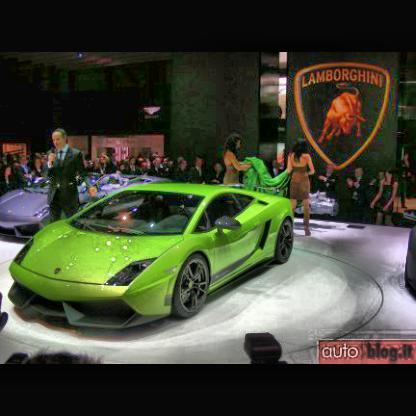Lamborghini Gallardo LP 570-4 Superleggera 2012: (11, 185, 296, 331)
